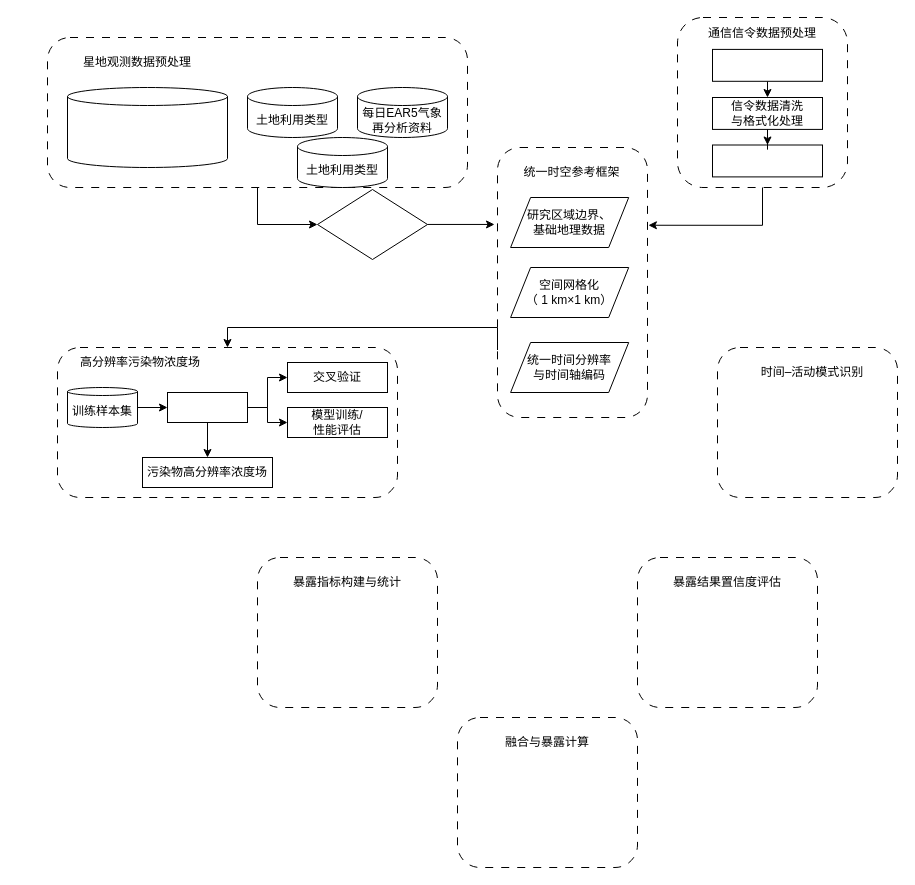
This 915x885 diagram has some shape labels left out. The shapes that lost their labels are listed below. From the top down, each one's centre as x and y in pixels, then its label:
(x=767, y=64): 基站覆盖区域简化
(x=147, y=127): 卫星特征（AOD、多光谱反射率、气体柱浓度等）
(x=767, y=160): 构建用户级 原始事件序列
(x=372, y=224): 去云、插值 填补
(x=207, y=407): XGBoost模型
